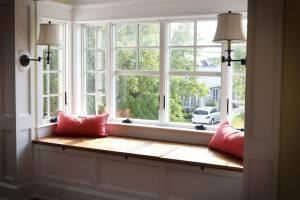window: (36, 17, 244, 131)
